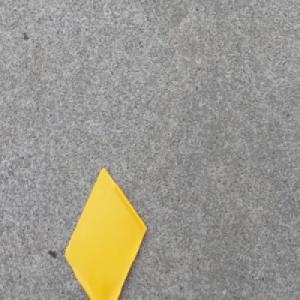PlasticPart: (63, 164, 149, 300)
